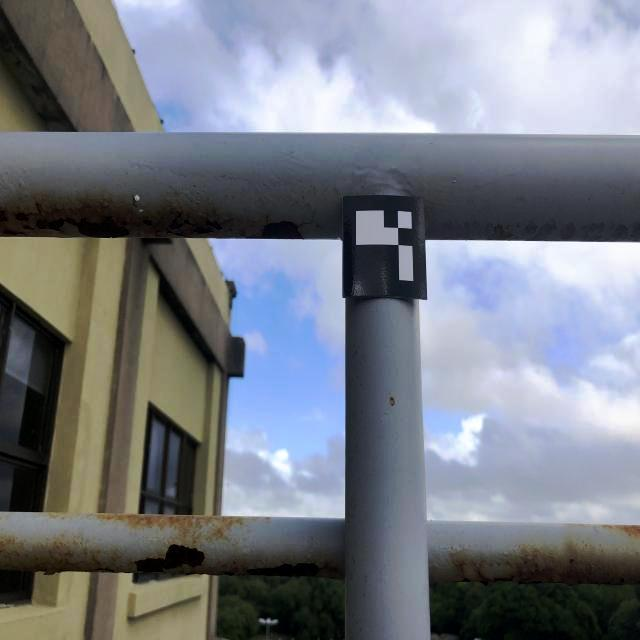Corrosion: (0, 199, 226, 238), (455, 549, 640, 586), (0, 534, 126, 574), (93, 514, 246, 543), (135, 545, 204, 573), (247, 564, 320, 578), (260, 220, 303, 239), (603, 524, 640, 536), (222, 571, 235, 575)
